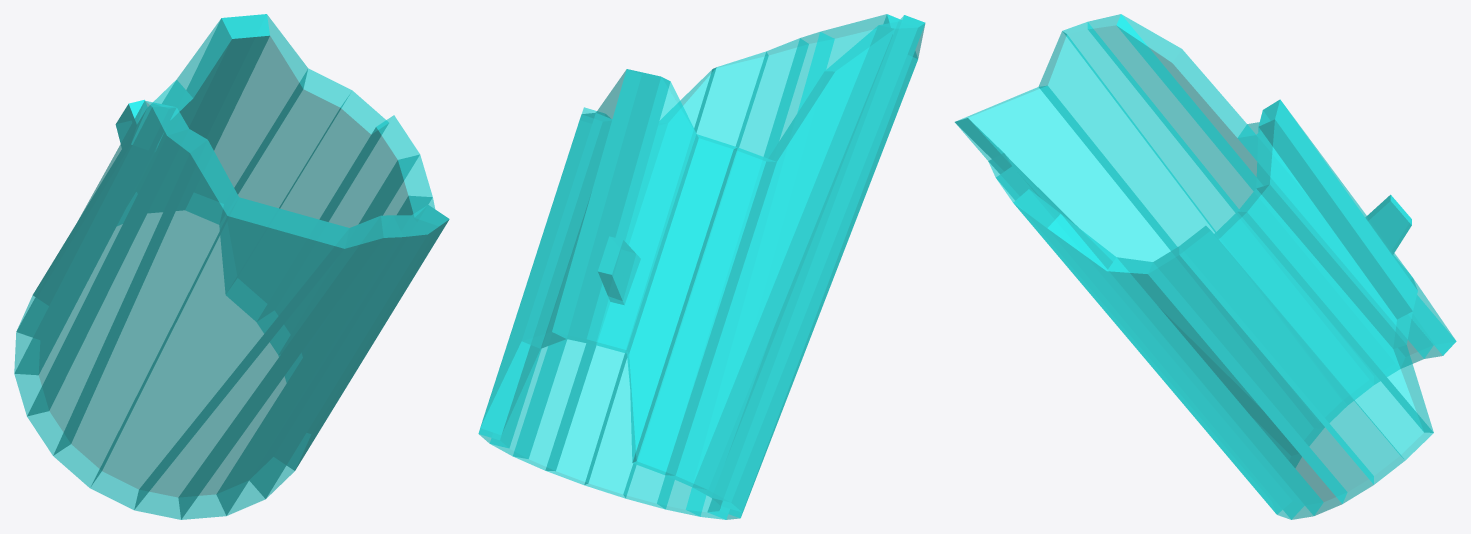
The model's file is SM_Bld_Plane_Hull_01_Collision.fbx.
The picture shows the model from 3 angles, left to right: view 1: azimuth 30°, elevation 25°; view 2: azimuth 150°, elevation 25°; view 3: azimuth 270°, elevation 25°; orthographic projection. The views are drawn at different scales.
Parts seen in each view (by area): view 1: SM_Bld_Plane_Hull_01_Collision; view 2: SM_Bld_Plane_Hull_01_Collision; view 3: SM_Bld_Plane_Hull_01_Collision.
Part boxes in pixels (x1,y1,x2,y2): SM_Bld_Plane_Hull_01_Collision: [14, 14, 449, 519]; SM_Bld_Plane_Hull_01_Collision: [478, 14, 925, 519]; SM_Bld_Plane_Hull_01_Collision: [954, 14, 1456, 519].
Size of the model in its own units: 762 by 1218 by 1315.
